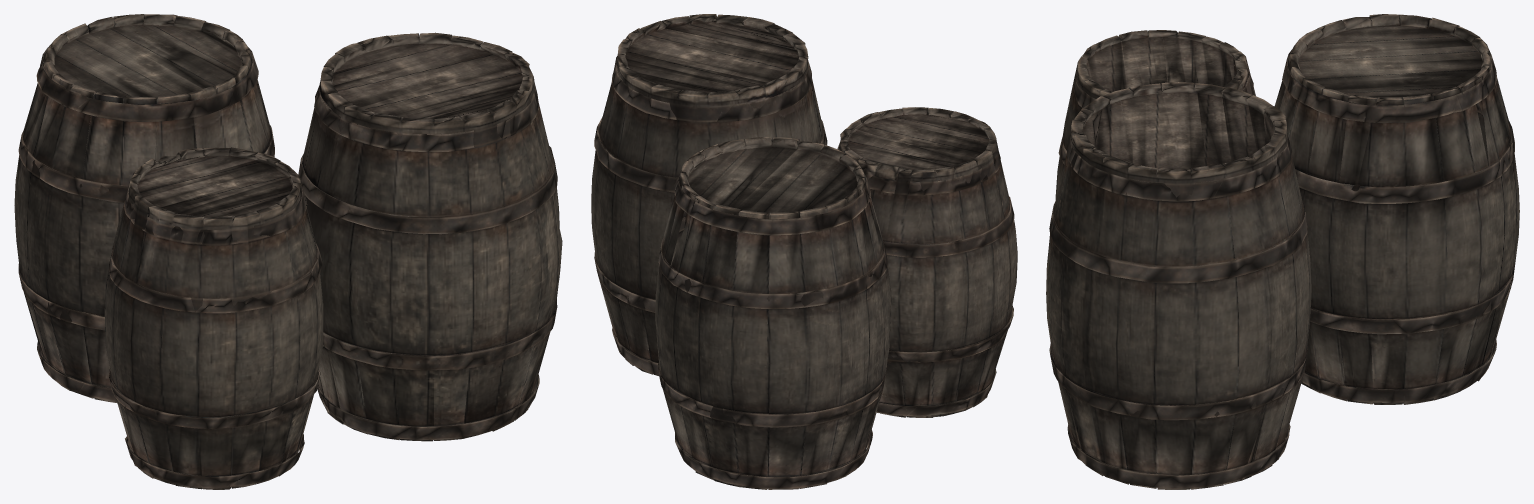
The model's file is des-barrels-intact.fbx.
3 views of the same model, side by side, from view 1: azimuth 30°, elevation 25°; view 2: azimuth 150°, elevation 25°; view 3: azimuth 270°, elevation 25° (orthographic). The views are drawn at different scales.
Visible parts, largest first — view 1: Mesh_0; view 2: Mesh_0; view 3: Mesh_0.
Boxes of the visible parts, x1,y1,x2,y2 form: Mesh_0: [14, 14, 562, 489]; Mesh_0: [591, 14, 1017, 489]; Mesh_0: [1046, 14, 1519, 489].
Bounding box in the file's own units: 95.36 × 67.87 × 91.11.
1 material, 1 textured.
